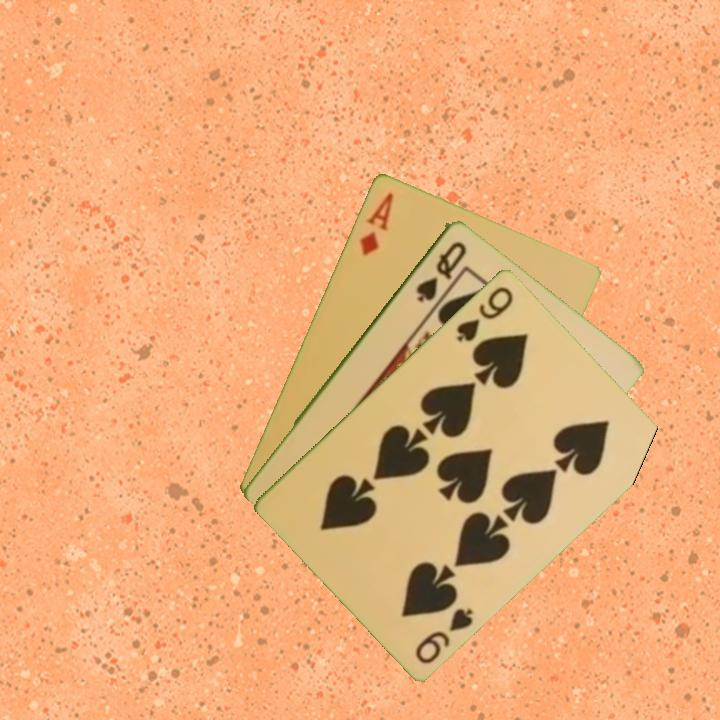9s: (411, 603, 476, 667), (452, 282, 516, 345)
Ad: (355, 188, 396, 258)
Qs: (412, 237, 470, 305)
